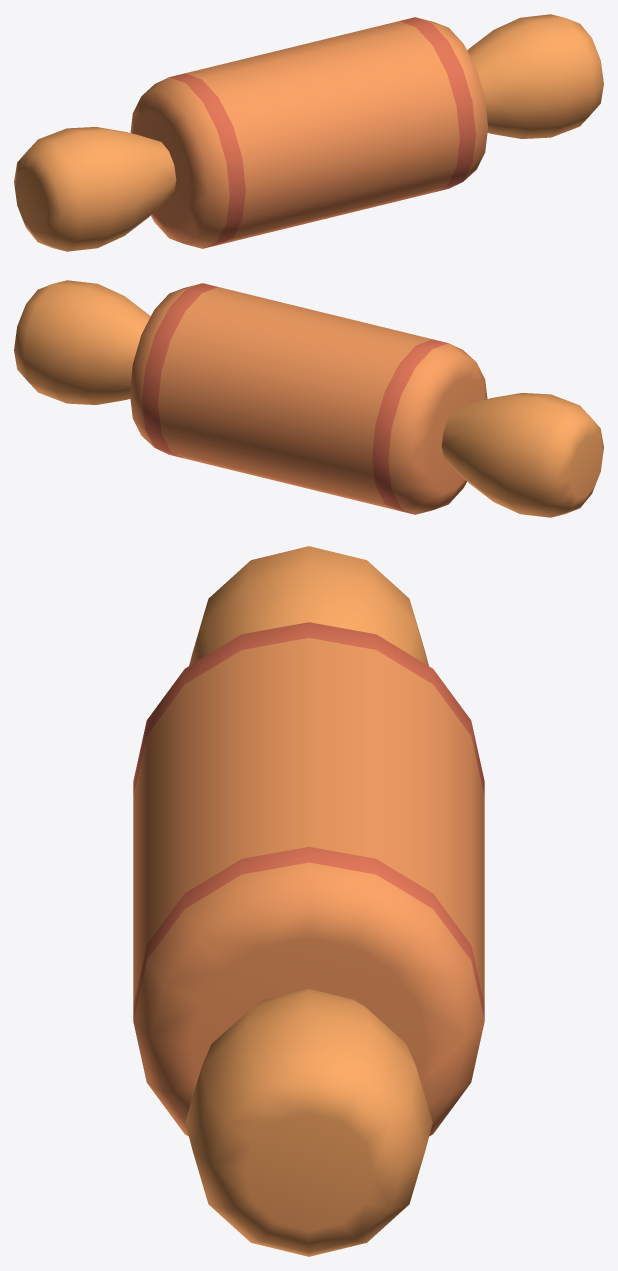
Rendered from Utensils_004.glb.
3 views of the same model, one above another, from view 1: azimuth 30°, elevation 25°; view 2: azimuth 150°, elevation 25°; view 3: azimuth 270°, elevation 25° (orthographic). The views are drawn at different scales.
Parts seen in each view (by area): view 1: Utensils_004; view 2: Utensils_004; view 3: Utensils_004.
Part boxes in pixels (x1,y1,x2,y2): Utensils_004: (14,14,603,251); Utensils_004: (14,280,603,517); Utensils_004: (133,546,484,1256).
Size of the model in its own units: 0.3891 by 0.1066 by 0.1066.
Materials: 1 (1 with a texture image).
